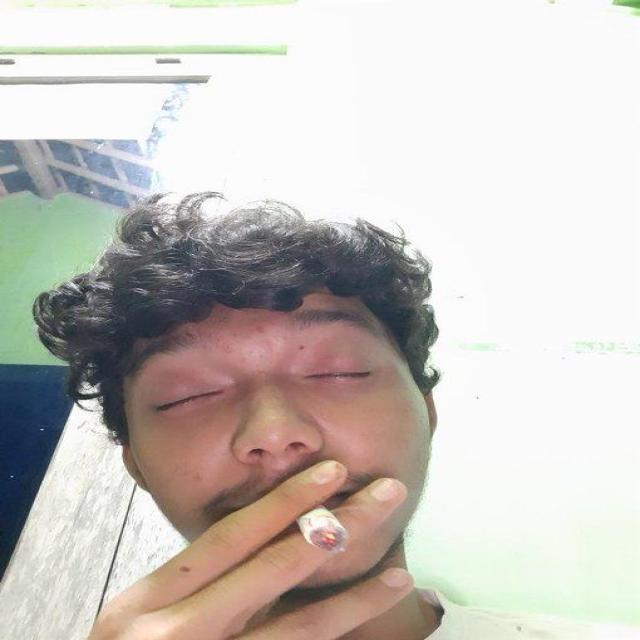rokok: (297, 506, 347, 552)
